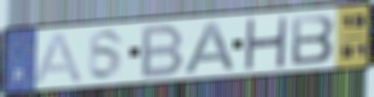6: (86, 29, 127, 81)
A: (181, 20, 240, 76), (31, 30, 86, 86)
B: (138, 22, 187, 80), (289, 12, 337, 67)
H: (242, 15, 290, 70)
